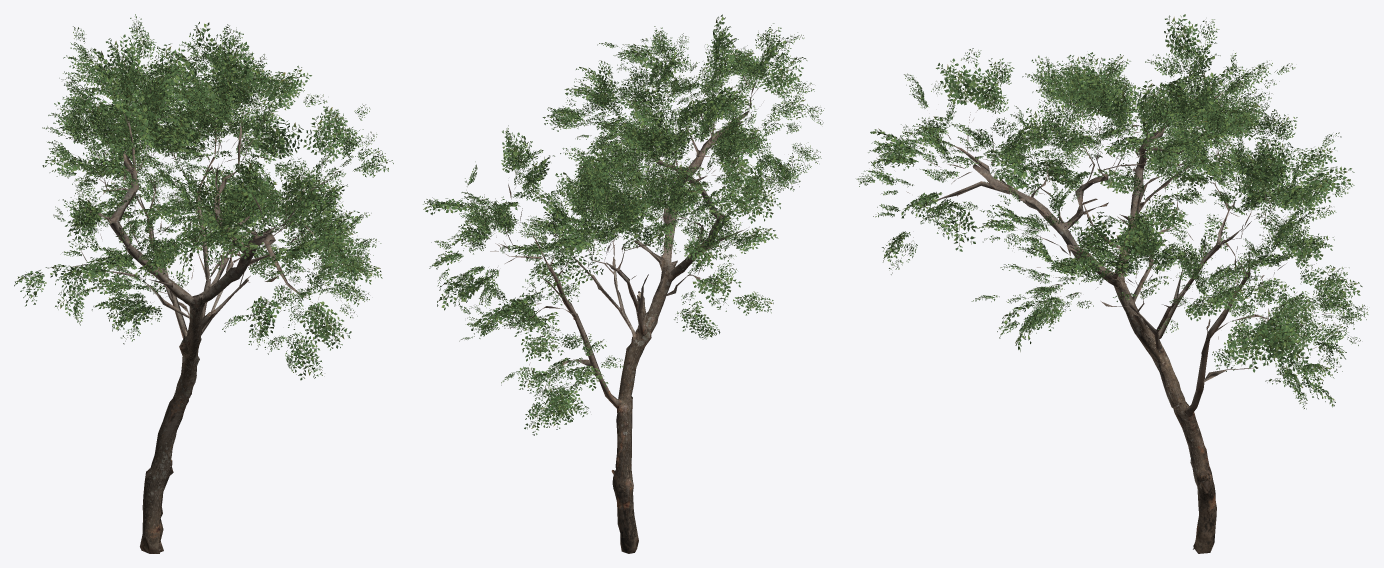
The model's file is tree_small_02-web.glb.
3 views of the same model, side by side, from view 1: azimuth 30°, elevation 25°; view 2: azimuth 150°, elevation 25°; view 3: azimuth 270°, elevation 25° (orthographic). The views are drawn at different scales.
Visible parts, largest first — view 1: tree_small_02_LOD0; view 2: tree_small_02_LOD0; view 3: tree_small_02_LOD0.
Boxes of the visible parts, x1,y1,x2,y2 form: tree_small_02_LOD0: (14, 14, 393, 553); tree_small_02_LOD0: (423, 14, 824, 553); tree_small_02_LOD0: (856, 14, 1368, 553).
Bounding box in the file's own units: 2.92 × 4.57 × 4.28.
Materials: 3 (3 with a texture image).
